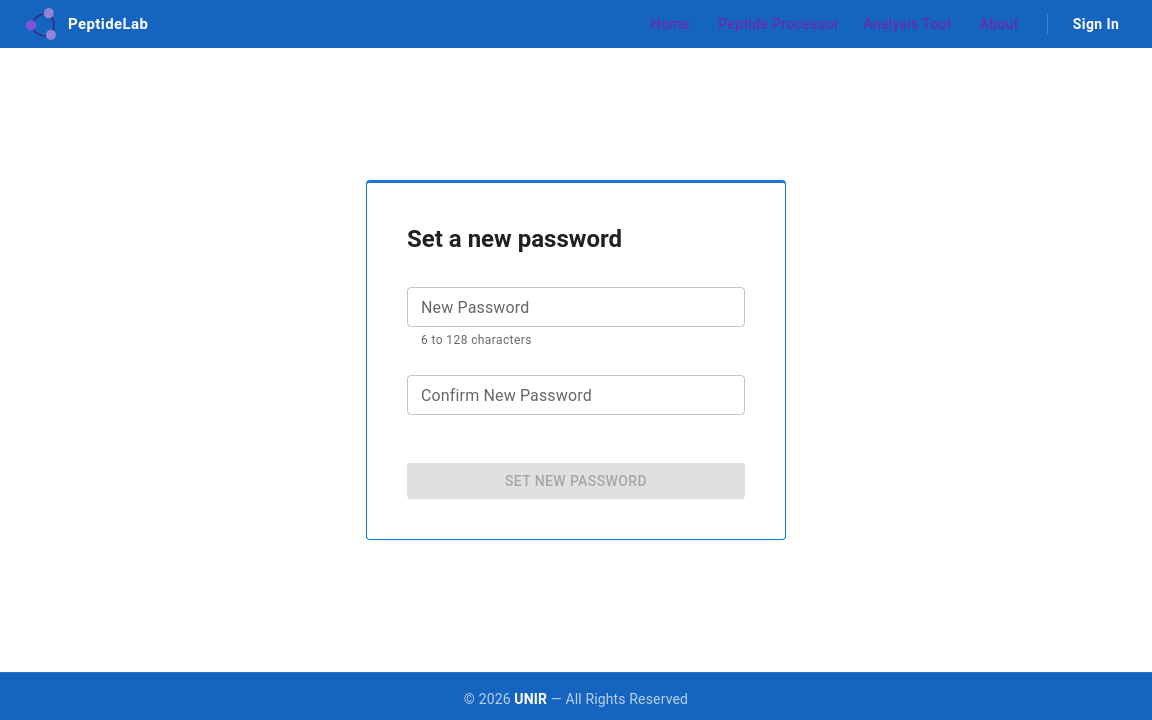
Scenario: link de recuperacao (I20) › rota do e-mail abre a tela de nova senha e envia o token do link
Expected: the heading "Set a new password" is shown, [407,225,622,253]
Type "nova-senha" into the password field labelled "New Password".
click(576, 307); type("nova-senha")  # box [407,287,745,327]
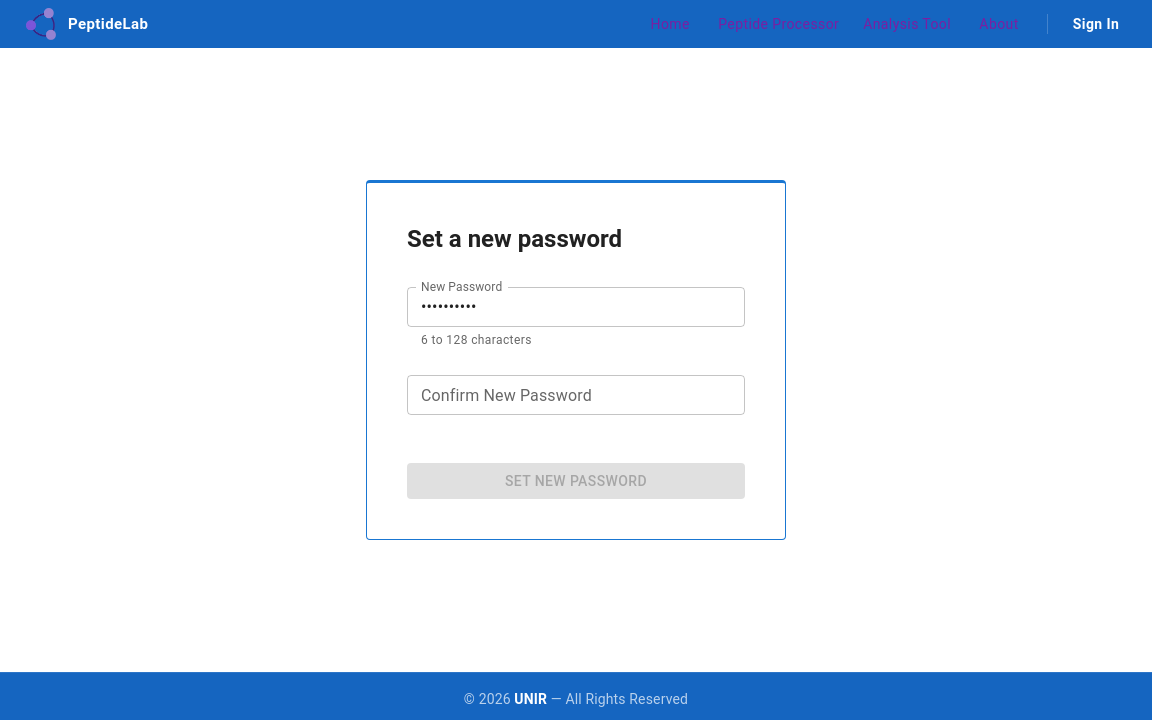
Type "nova-senha" into the password field labelled "Confirm New Password".
click(576, 395); type("nova-senha")  # box [407,375,745,415]
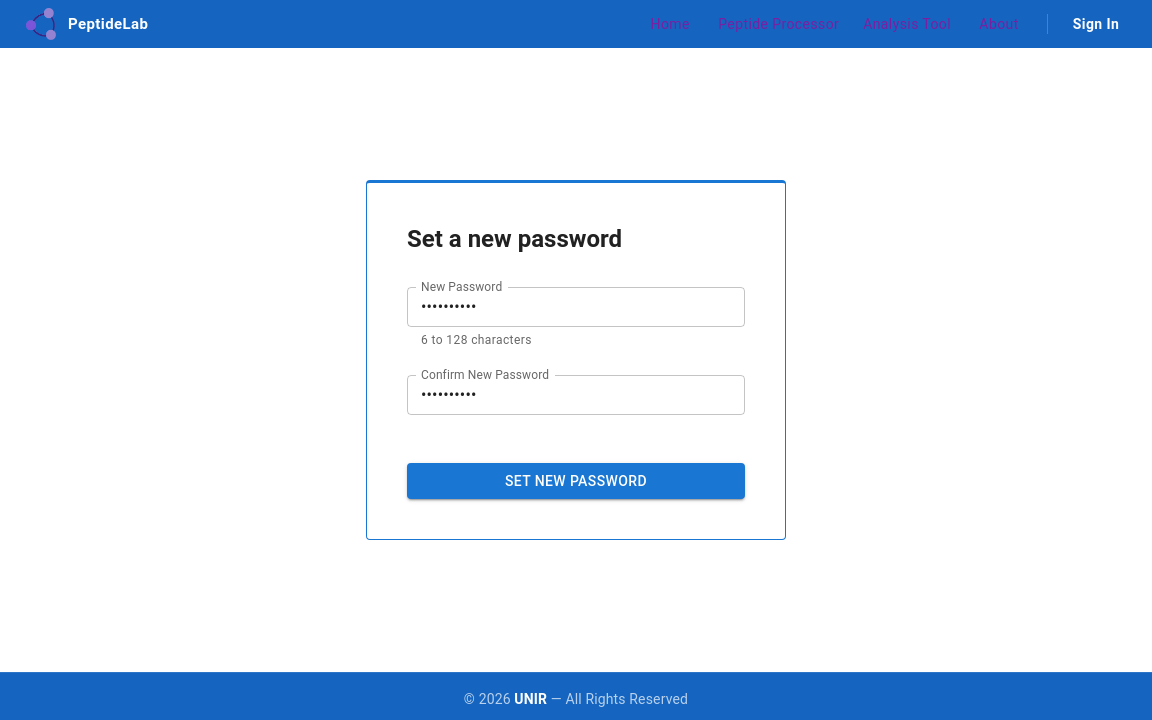
Click the button "Set New Password".
click(576, 481)  # box [407,463,745,499]
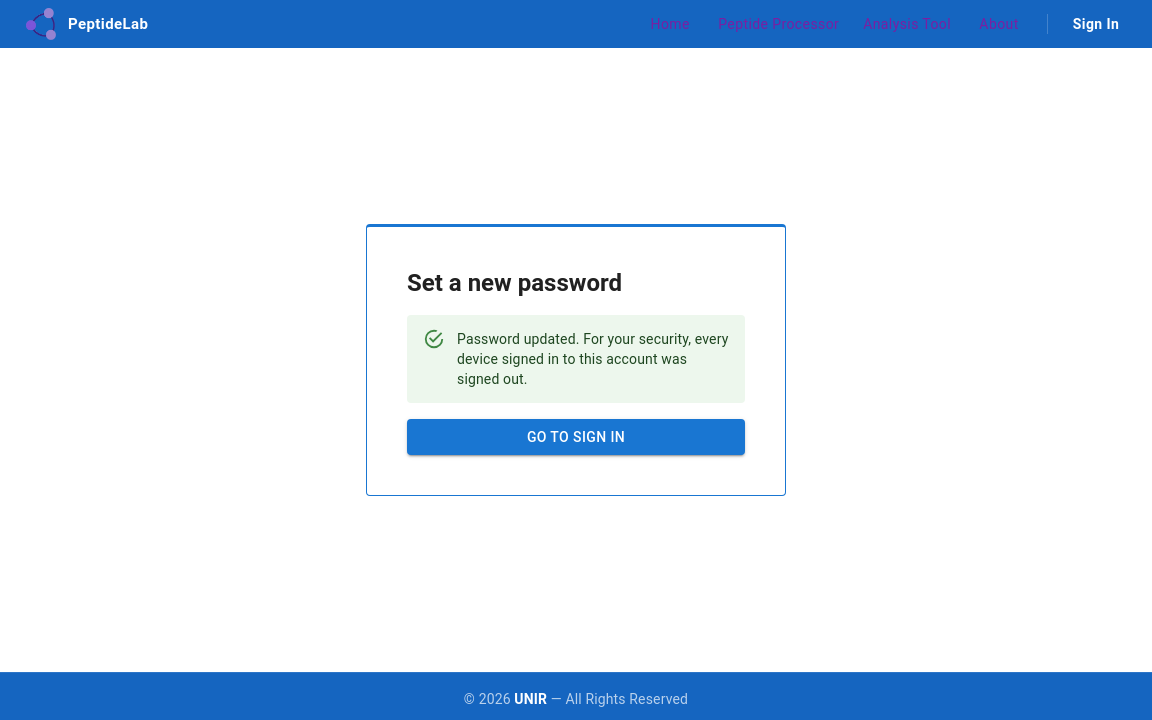
Now the text "every device signed in to this account was signed out" is shown, box [457,331,728,387]
